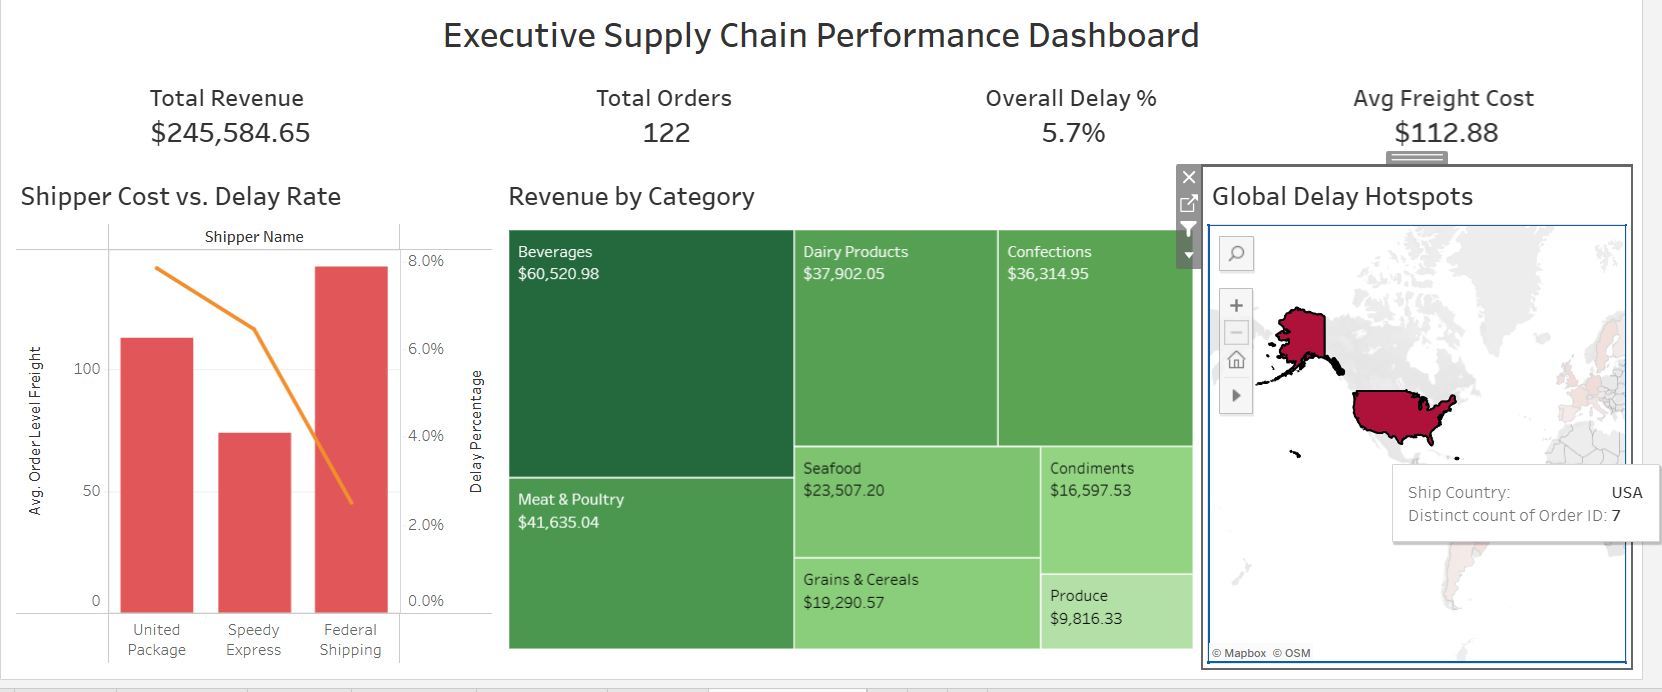

This screenshot's page, from the dashboard's own definition file:
{"tool":"tableau","page":{"name":"Final Dashboard","canvas":[1000,1000],"units":"permille","ordinal":0},"visuals":[{"type":"title","box":[6.1,14.6,987.8,84.1]},{"type":"worksheet","title":"KPI - Revenue","mark":"Automatic","box":[6.1,98.7,266.4,149.9]},{"type":"worksheet","title":"KPI - Orders","mark":"Automatic","box":[272.5,98.7,266.5,149.9]},{"type":"worksheet","title":"KPI - Delay Rate","mark":"Automatic","box":[539.1,98.7,227.7,149.9]},{"type":"worksheet","title":"KPI - Freight","mark":"Automatic","box":[766.8,98.7,227.1,149.9]},{"type":"worksheet","title":"Chart - Shipper","mark":"Automatic","rows":["freight","Calculation_0014625329938445"],"cols":["shipperName"],"box":[6.1,248.6,297,736.8]},{"type":"worksheet","title":"Chart - Treemap","mark":"Square","box":[303.1,248.6,428.8,736.8]},{"type":"worksheet","title":"Chart - Map","mark":"Multipolygon","box":[731.9,248.6,262,736.8]}]}

Visuals, with their boxes on the dashboard's canvas, which has no fixed pixel size, in thousandths of its width and height (x1, y1, x2, y2). These are canvas units, not pixel positions in the 1662x692 screenshot, which may show the page scaled, cropped or inside an application window:
title: pyautogui.locateOnScreen(6, 15, 994, 99)
"KPI - Revenue" worksheet: pyautogui.locateOnScreen(6, 99, 272, 249)
"KPI - Orders" worksheet: pyautogui.locateOnScreen(272, 99, 539, 249)
"KPI - Delay Rate" worksheet: pyautogui.locateOnScreen(539, 99, 767, 249)
"KPI - Freight" worksheet: pyautogui.locateOnScreen(767, 99, 994, 249)
"Chart - Shipper" worksheet: pyautogui.locateOnScreen(6, 249, 303, 985)
"Chart - Treemap" worksheet (Square marks): pyautogui.locateOnScreen(303, 249, 732, 985)
"Chart - Map" worksheet (Multipolygon marks): pyautogui.locateOnScreen(732, 249, 994, 985)
